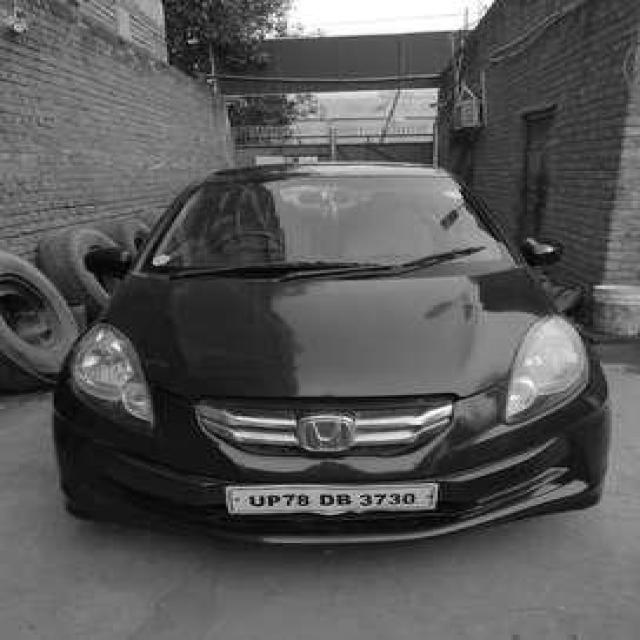car: (47, 152, 612, 543)
license-plate: (228, 485, 436, 513)
